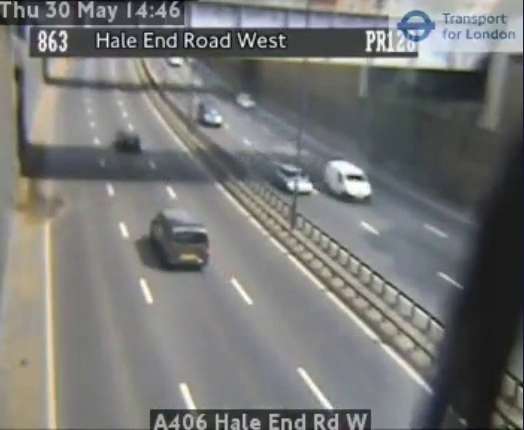van: (151, 211, 209, 267)
